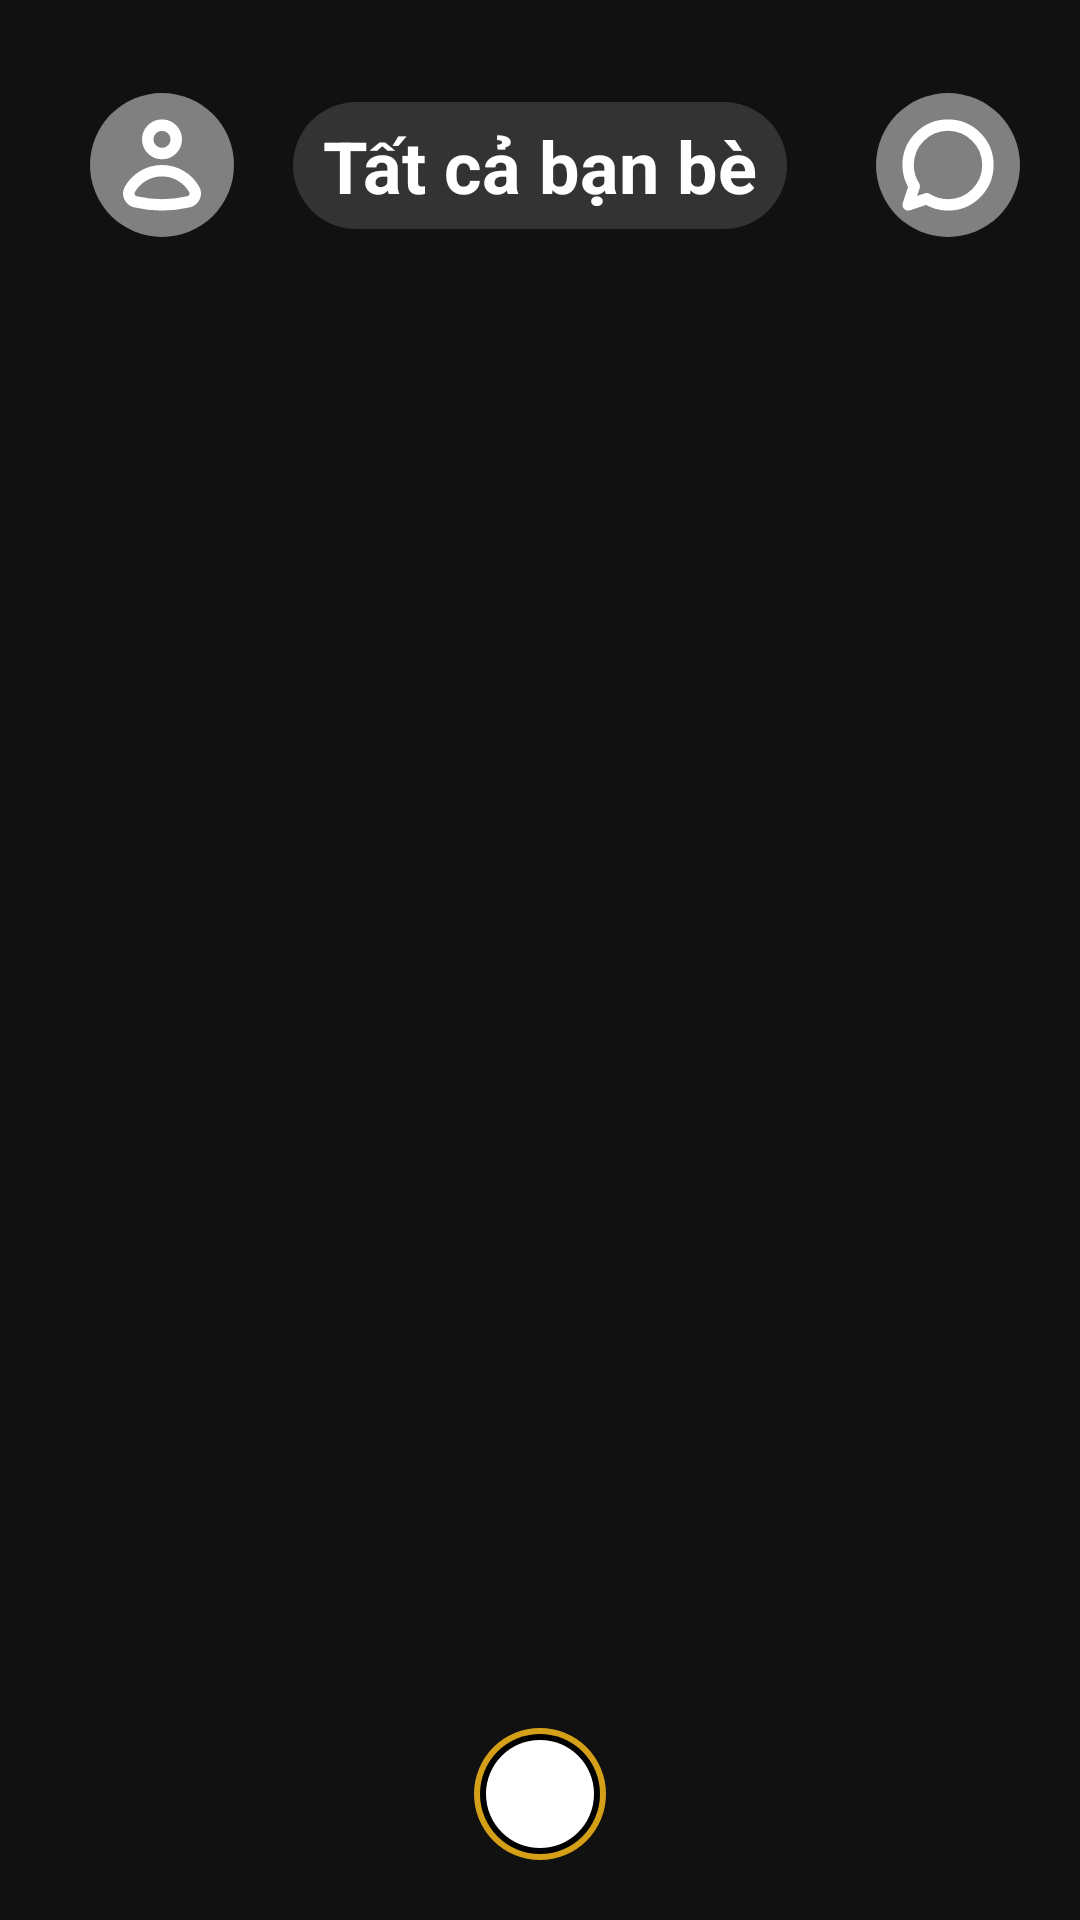

Screen size 1080*1920. Icon name, then its center in pixels as [x,y]:
capture: [540,1794]
chat: [948,165]
profile: [162,165]
